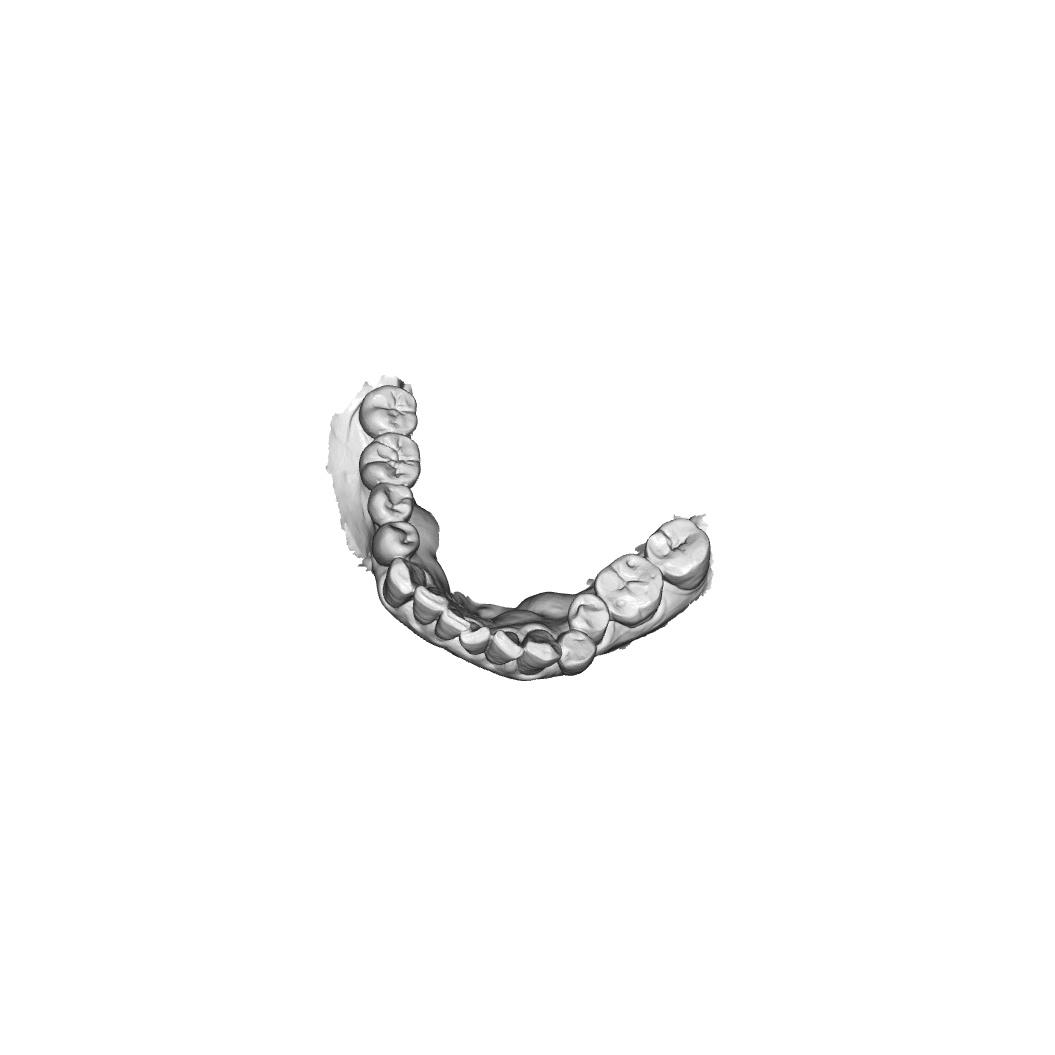canine: (382, 557, 427, 609), (516, 627, 563, 676)
incisor: (412, 584, 449, 625), (484, 630, 525, 666), (458, 616, 492, 657), (434, 605, 471, 641)
molar: (593, 553, 664, 628), (643, 518, 712, 591), (359, 431, 422, 493), (358, 385, 418, 440)
premolar: (371, 520, 421, 568), (566, 592, 610, 646), (367, 482, 414, 527), (555, 628, 597, 677)
